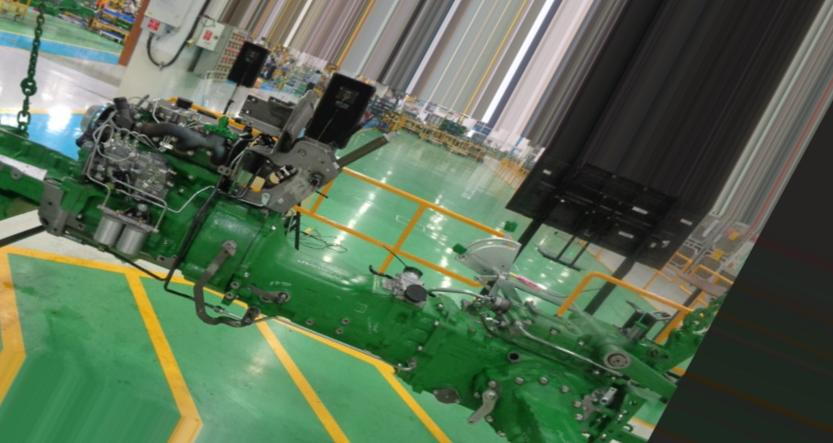engine: (0, 113, 708, 443)
